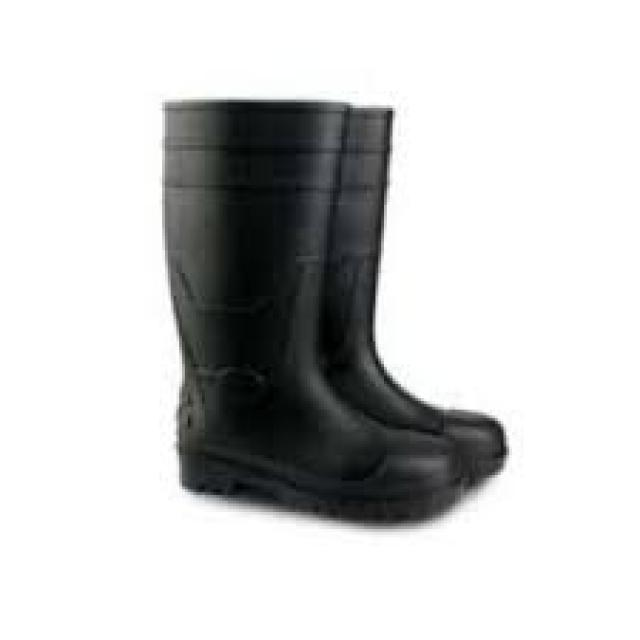shoes: (164, 101, 506, 519)
